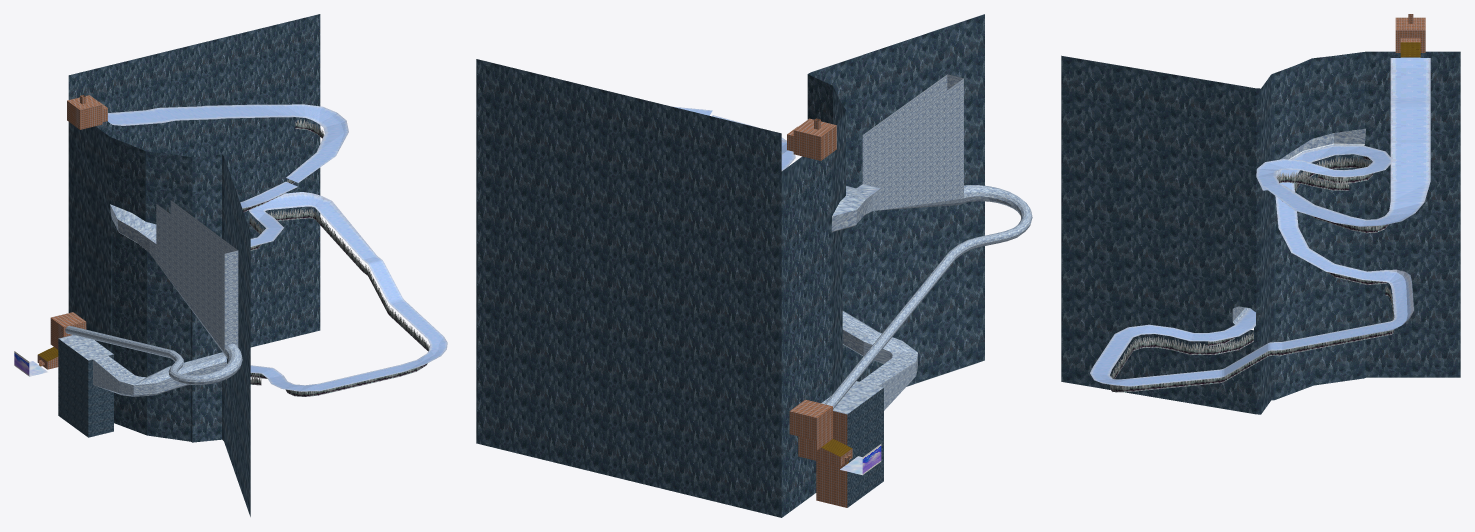
Rendered from snow_slider_all.obj.
3 renders of one model, left to right at view 1: azimuth 30°, elevation 25°; view 2: azimuth 150°, elevation 25°; view 3: azimuth 270°, elevation 25°, orthographic. The views are drawn at different scales.
Parts seen in each view (by area): view 1: r0; view 2: r0; view 3: r0.
Boxes of the visible parts, x1,y1,x2,y2 form: r0: (14,14,447,516); r0: (476,14,1032,517); r0: (1061,14,1460,414).
Bounding box in the file's own units: 16.5 × 16 × 16.
Materials: 13 (13 with a texture image).
